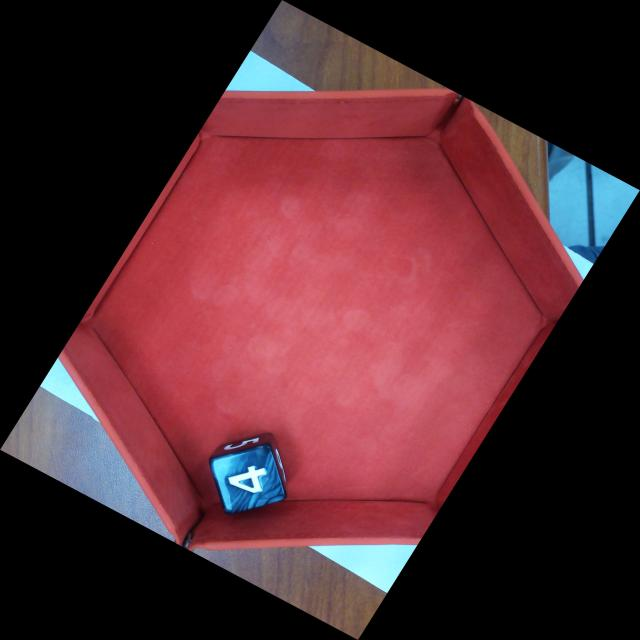dice: (207, 443, 288, 516)
